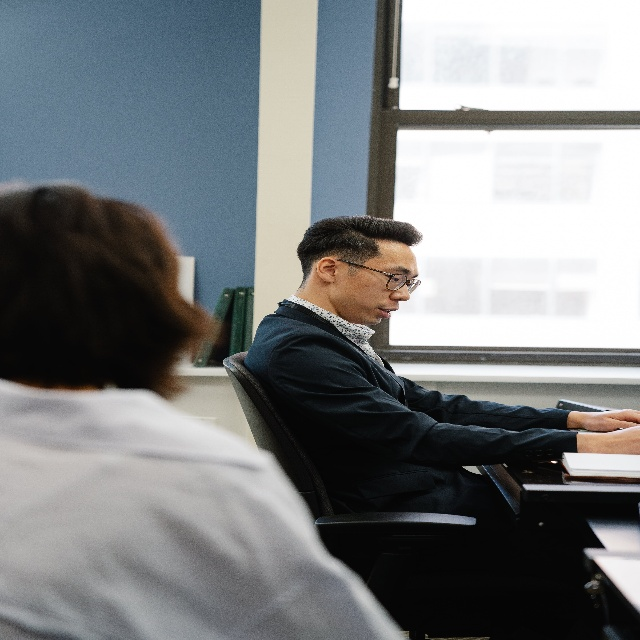Gafas: (386, 269, 421, 295)
Sin_guantes: (581, 429, 640, 450), (573, 408, 640, 423)
